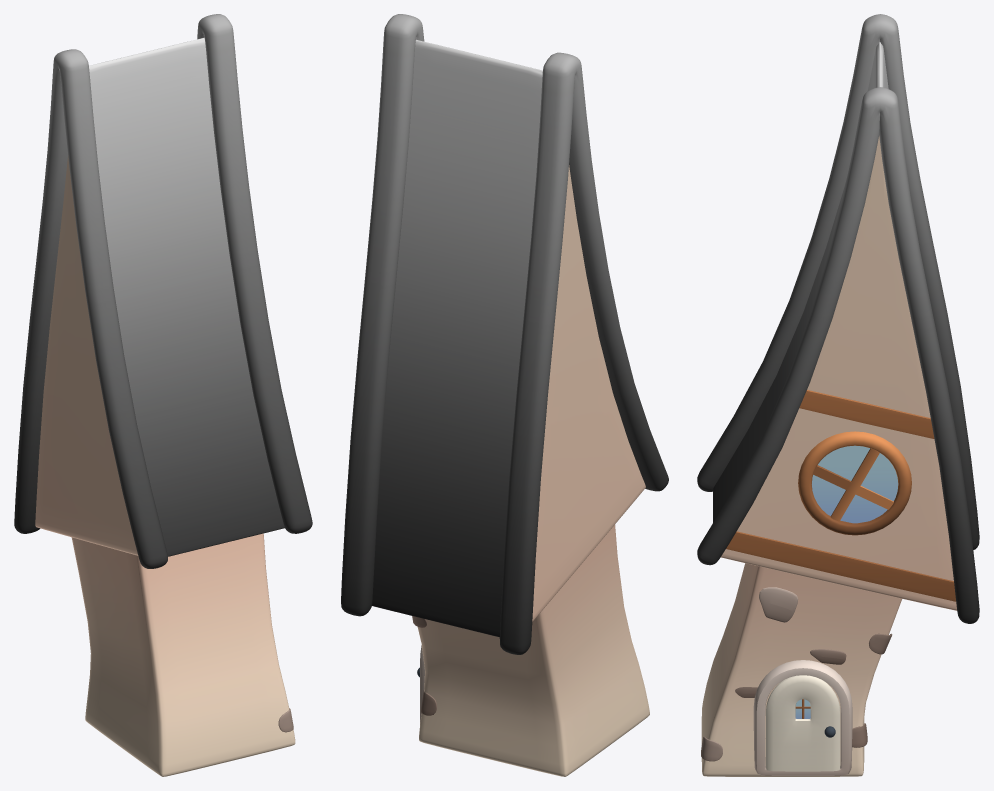
File: Huisjes dakkleurloos.fbx
3 renders of one model, left to right at view 1: azimuth 30°, elevation 25°; view 2: azimuth 150°, elevation 25°; view 3: azimuth 270°, elevation 25°, orthographic. The views are drawn at different scales.
Parts seen in each view (by area): view 1: Cube.005; view 2: Cube.005; view 3: Cube.005, door.001, Cube.030, Cylinder.010, Cylinder.004, Plane.005, Cube.032, Cube.034, Cube.033.
Boxes of the visible parts, <box> form: Cube.005: <box>14,14,312,776</box>; Cube.005: <box>341,14,668,776</box>; Cube.005: <box>697,14,979,776</box>; door.001: <box>766,675,840,771</box>; Cube.030: <box>726,531,955,601</box>; Cylinder.010: <box>798,431,911,535</box>; Cylinder.004: <box>753,660,852,775</box>; Plane.005: <box>812,445,898,523</box>; Cube.032: <box>799,390,934,438</box>; Cube.034: <box>813,448,893,521</box>; Cube.033: <box>759,587,798,622</box>.
Bounding box in the file's own units: 215 × 804 × 298.
